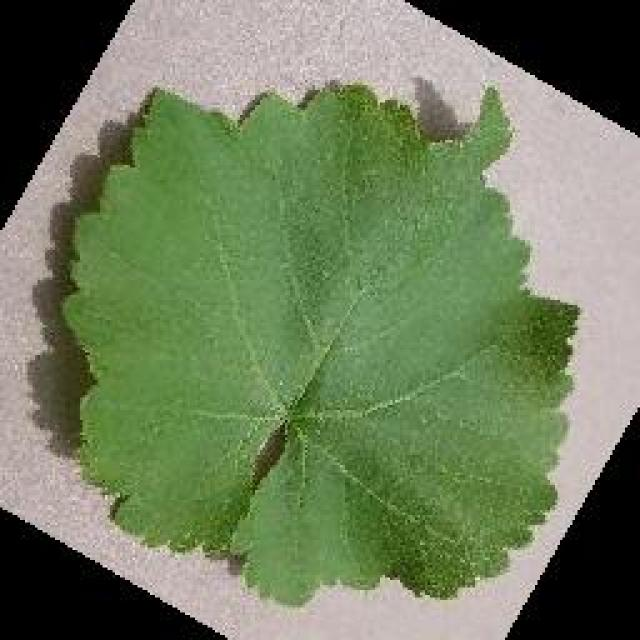Grape___healthy: (65, 85, 575, 602)
